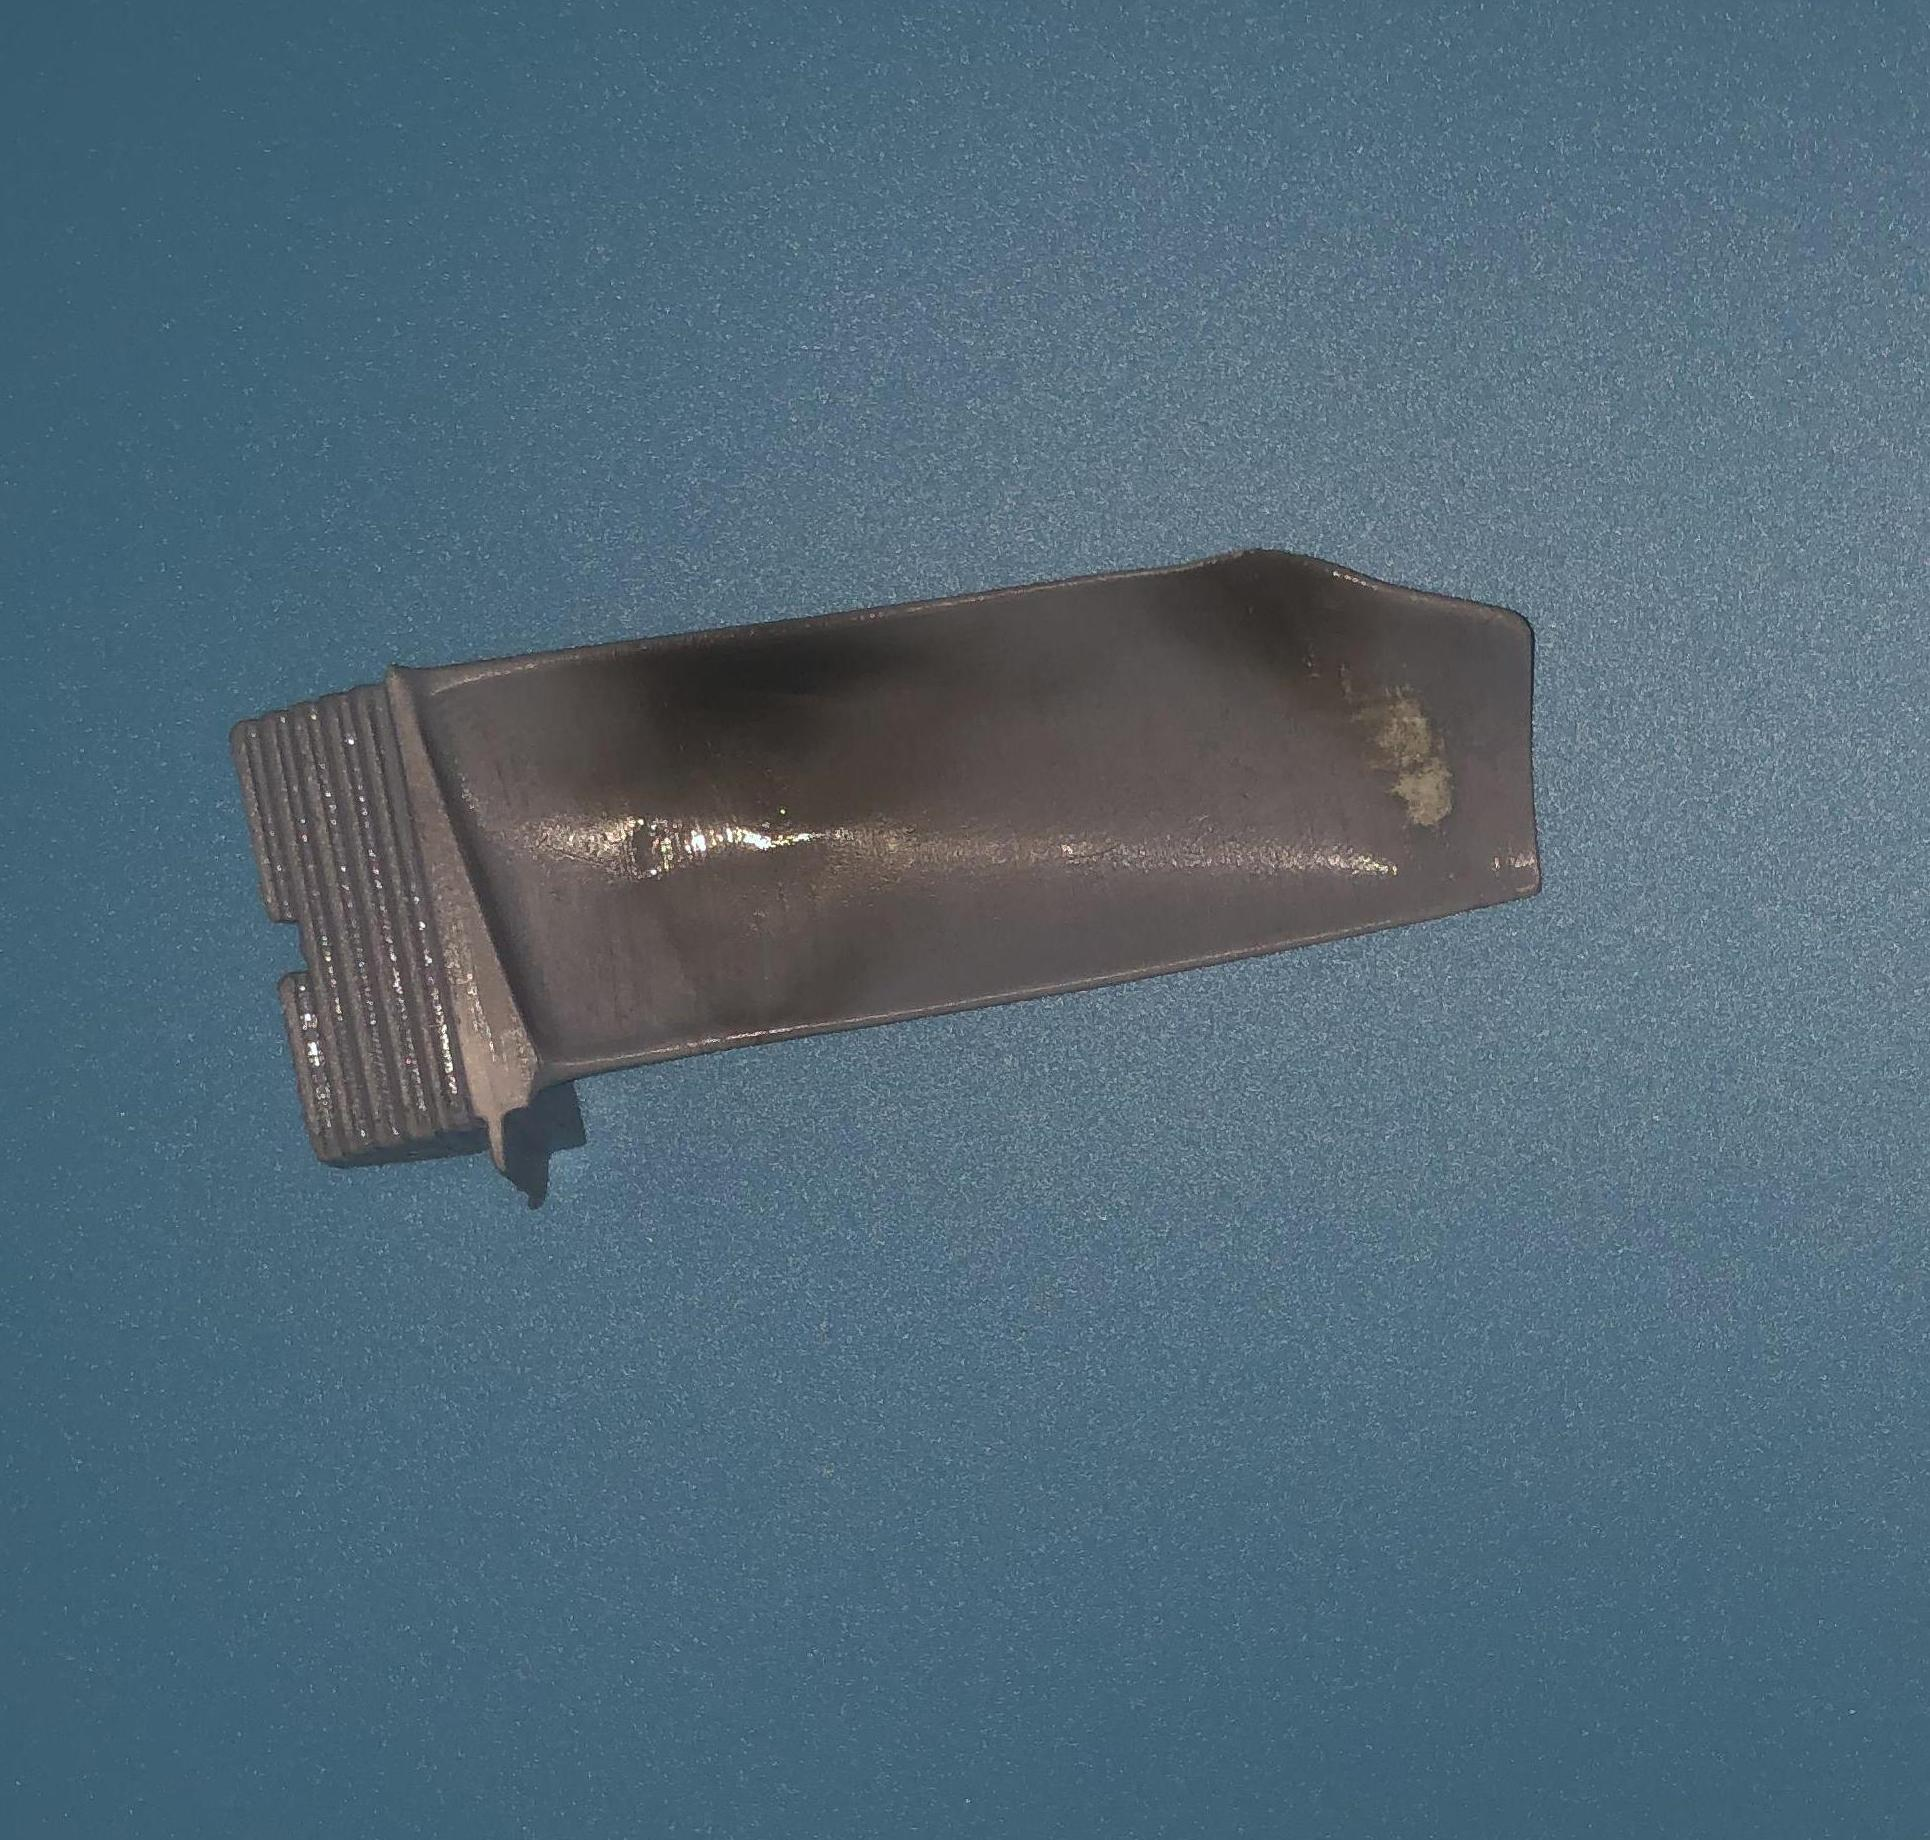ablation: (644, 648, 932, 855), (1220, 575, 1406, 717)
